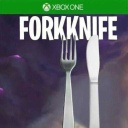fork: (55, 34, 84, 128)
